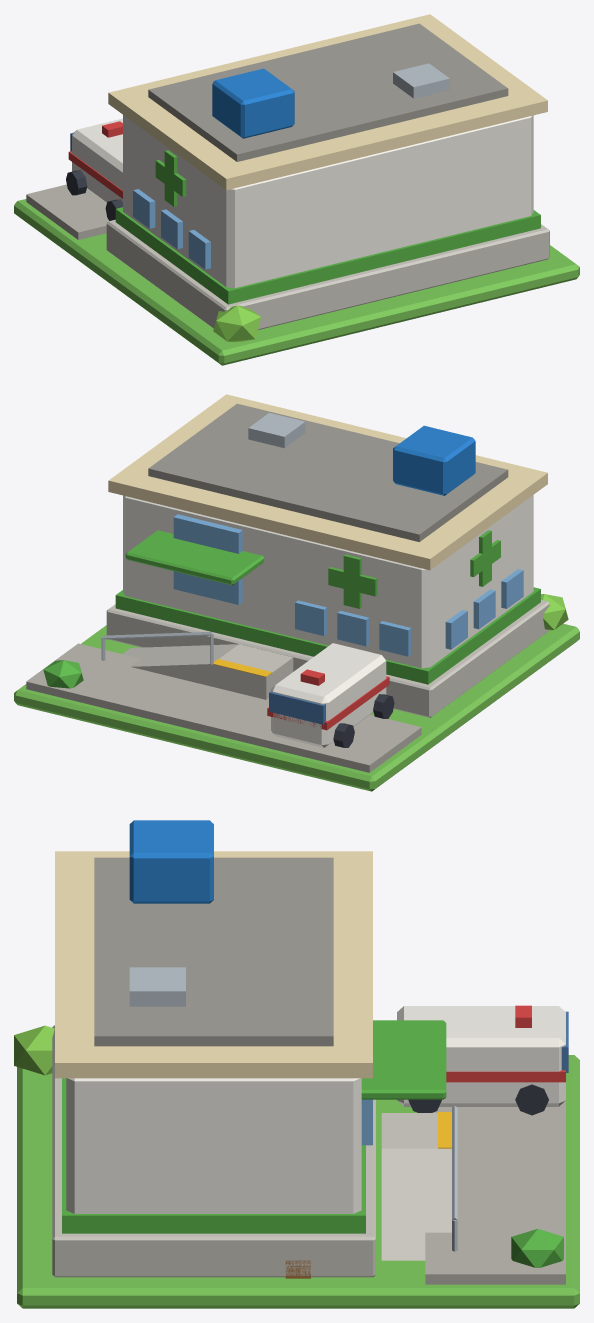
File: posto_saude.glb
3 views of the same model, one above another, from view 1: azimuth 30°, elevation 25°; view 2: azimuth 150°, elevation 25°; view 3: azimuth 270°, elevation 25° (orthographic). The views are drawn at different scales.
Parts seen in each view (by area): view 1: corpo; view 2: corpo; view 3: corpo.
Boxes of the visible parts, x1,y1,x2,y2 form: corpo: [14, 14, 579, 365]; corpo: [14, 394, 579, 791]; corpo: [14, 820, 579, 1308].
Size of the model in its own units: 2 by 1.16 by 2.01.
